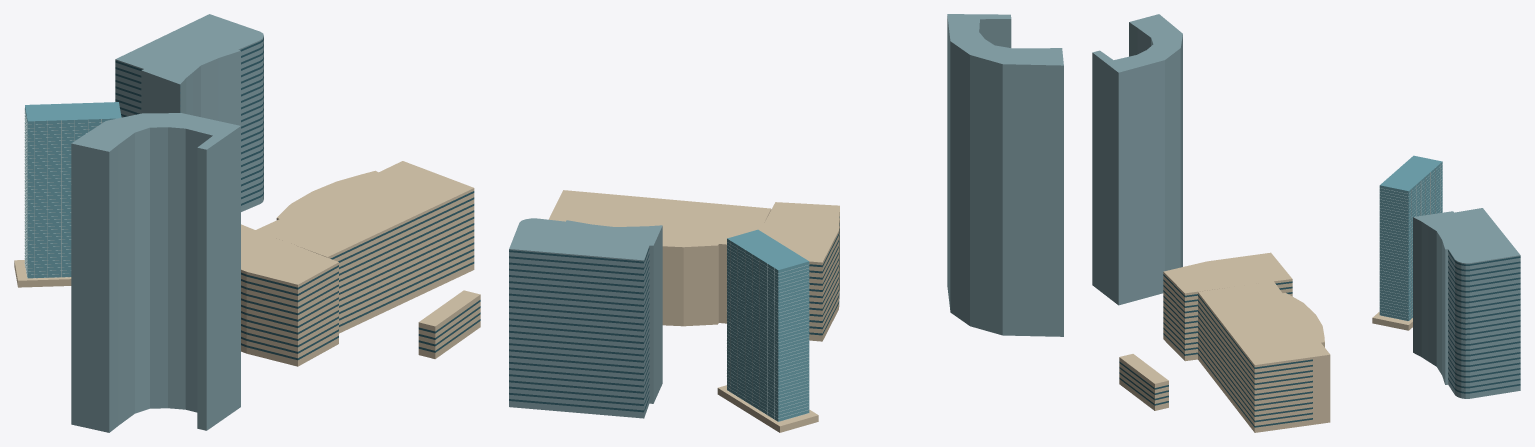
Rendered from city_6_0.glb.
The picture shows the model from 3 angles, left to right: view 1: azimuth 30°, elevation 25°; view 2: azimuth 150°, elevation 25°; view 3: azimuth 270°, elevation 25°; orthographic projection. The views are drawn at different scales.
Visible parts, largest first — view 1: city_6_0; view 2: city_6_0; view 3: city_6_0.
Part boxes in pixels (x1,y1,x2,y2): city_6_0: (14,14,480,432); city_6_0: (509,14,1063,432); city_6_0: (1092,14,1520,432).
Bounding box in the file's own units: 300 × 175 × 292.
